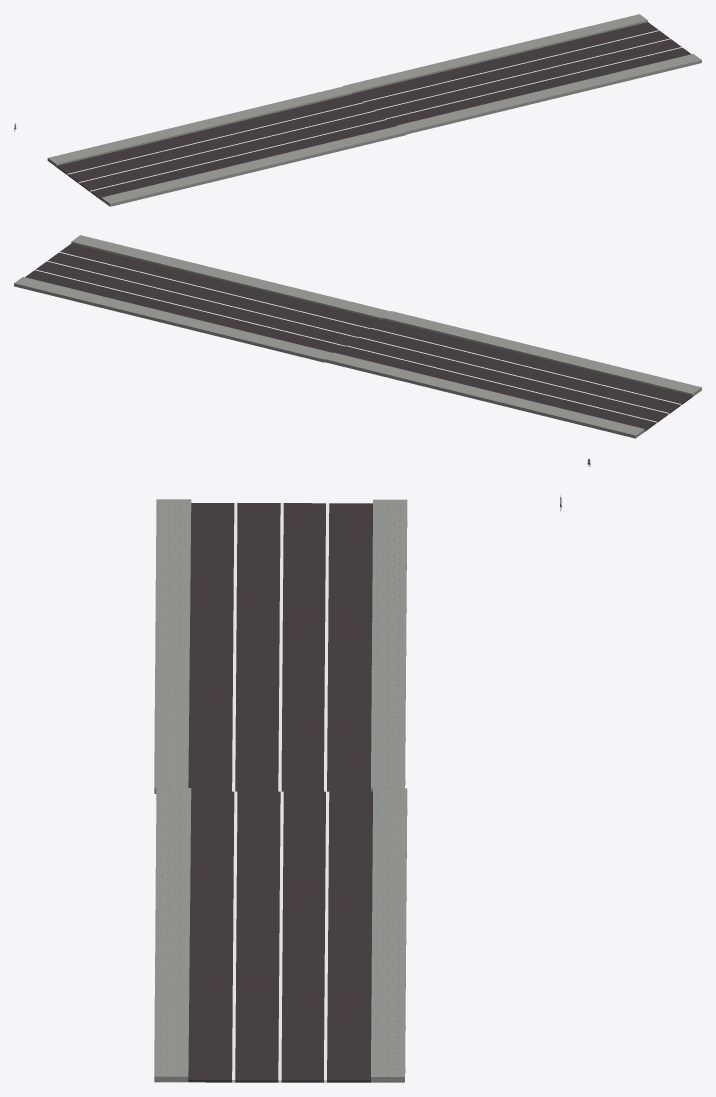
The picture shows the model from 3 angles, top to bottom: view 1: azimuth 30°, elevation 25°; view 2: azimuth 150°, elevation 25°; view 3: azimuth 270°, elevation 25°; orthographic projection. The views are drawn at different scales.
Visible parts, largest first — view 1: Geom3D (×6); view 2: Geom3D (×6); view 3: Geom3D (×6).
Part boxes in pixels (left/top/right/bottom): Geom3D (×6): left=47, top=14, right=701, bottom=206; Geom3D (×6): left=14, top=235, right=701, bottom=438; Geom3D (×6): left=154, top=499, right=407, bottom=1082.
Size of the model in its own units: 123 by 1.59 by 36.57.
Materials: 24 (2 with a texture image).
